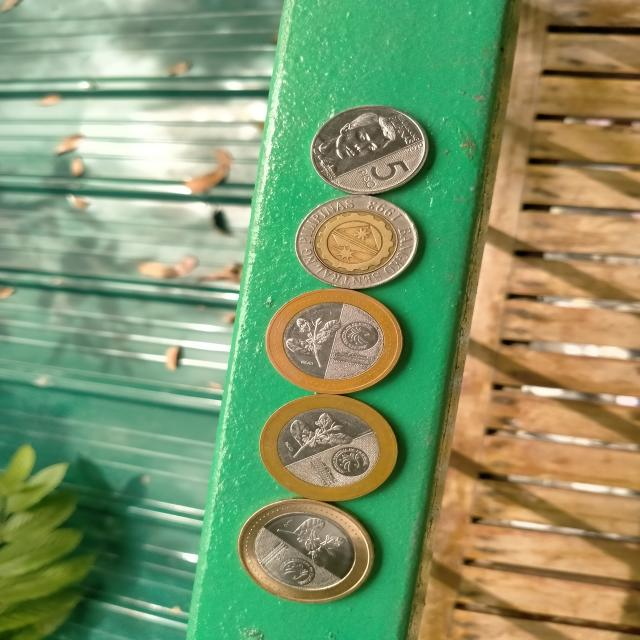10_Old_Back: (297, 202, 413, 288)
20_New_Back: (268, 402, 362, 459), (265, 513, 360, 568), (276, 306, 342, 382)
5_New_Front: (356, 155, 419, 191)
